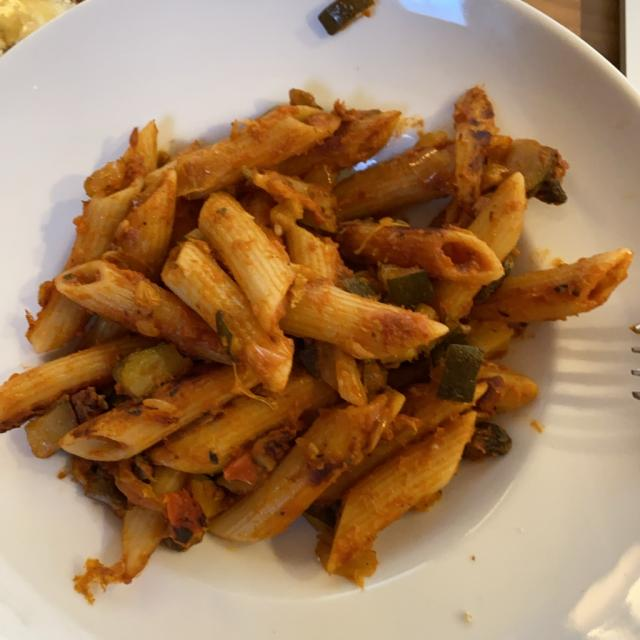pasta-penne: (13, 93, 625, 593)
tuna-in-oil-drained: (39, 174, 462, 443)
